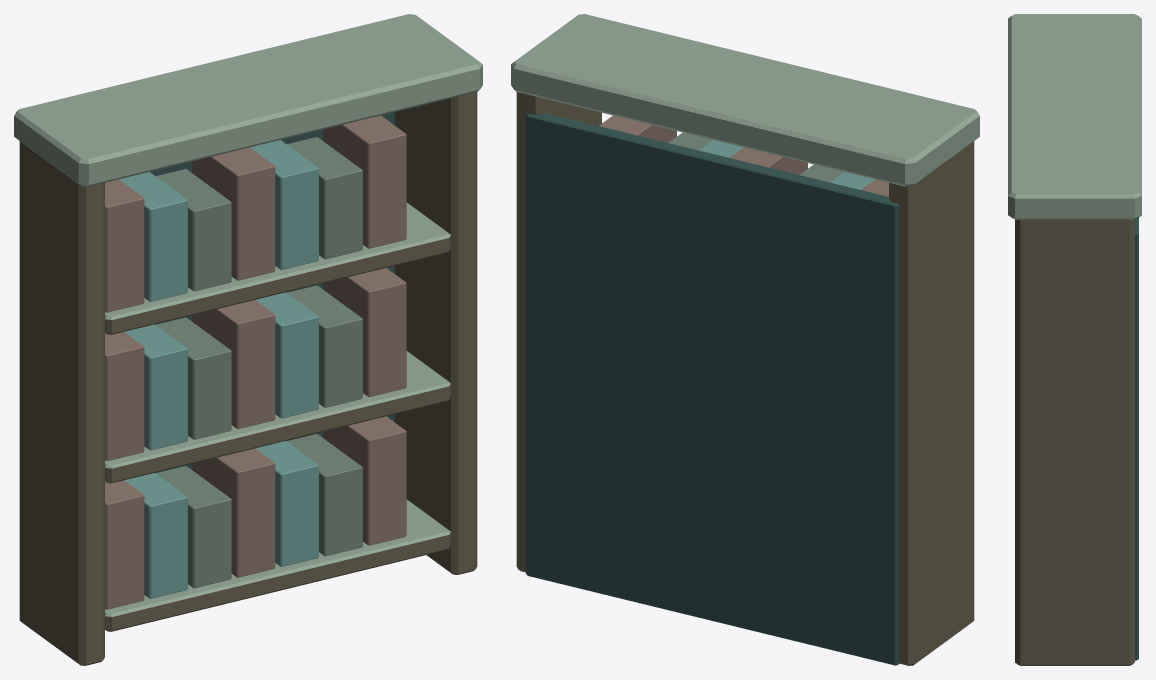
File: bookcase-tall.glb
3 renders of one model, left to right at view 1: azimuth 30°, elevation 25°; view 2: azimuth 150°, elevation 25°; view 3: azimuth 270°, elevation 25°, orthographic. The views are drawn at different scales.
Visible parts, largest first — view 1: bookcase-tall__body; view 2: bookcase-tall__body; view 3: bookcase-tall__body.
Part boxes in pixels (x1,y1,x2,y2): bookcase-tall__body: [14, 14, 482, 665]; bookcase-tall__body: [511, 14, 979, 665]; bookcase-tall__body: [1008, 14, 1141, 665].
Bounding box in the file's own units: 1.52 × 1.83 × 0.47.
